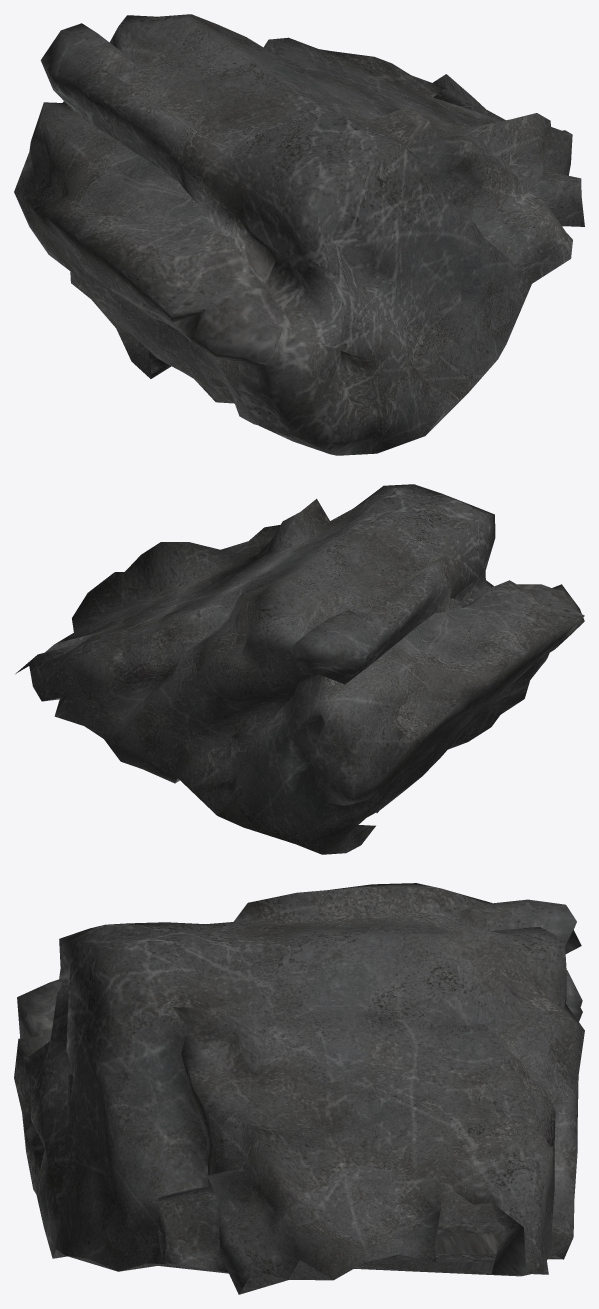
The model's file is Plate_cliff_without_biba.fbx.
The picture shows the model from 3 angles, top to bottom: view 1: azimuth 30°, elevation 25°; view 2: azimuth 150°, elevation 25°; view 3: azimuth 270°, elevation 25°; orthographic projection. The views are drawn at different scales.
Visible parts, largest first — view 1: Mesh23; view 2: Mesh23; view 3: Mesh23.
Boxes of the visible parts, x1,y1,x2,y2 form: Mesh23: (14, 14, 584, 455); Mesh23: (15, 484, 584, 854); Mesh23: (14, 883, 584, 1294).
Size of the model in its own units: 2854 by 1709 by 2518.
